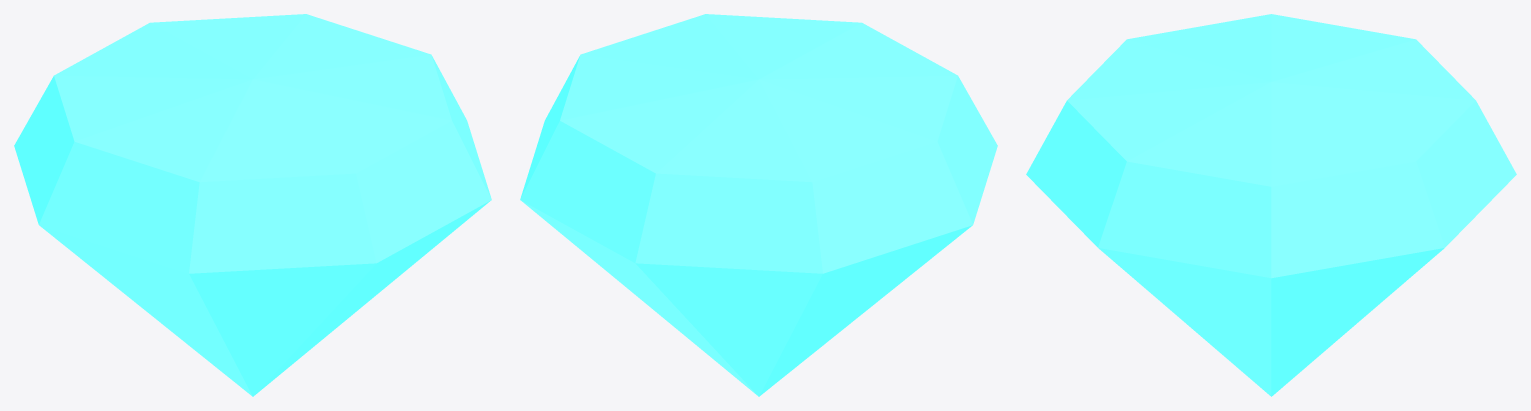
Rendered from gem.fbx.
3 renders of one model, left to right at view 1: azimuth 30°, elevation 25°; view 2: azimuth 150°, elevation 25°; view 3: azimuth 270°, elevation 25°, orthographic.
Parts seen in each view (by area): view 1: gem; view 2: gem; view 3: gem.
Part boxes in pixels (x1=…): gem: x1=14, y1=14, x2=491, y2=396; gem: x1=520, y1=14, x2=997, y2=396; gem: x1=1026, y1=14, x2=1516, y2=396.
Size of the model in its own units: 0.12 by 0.085 by 0.12.
